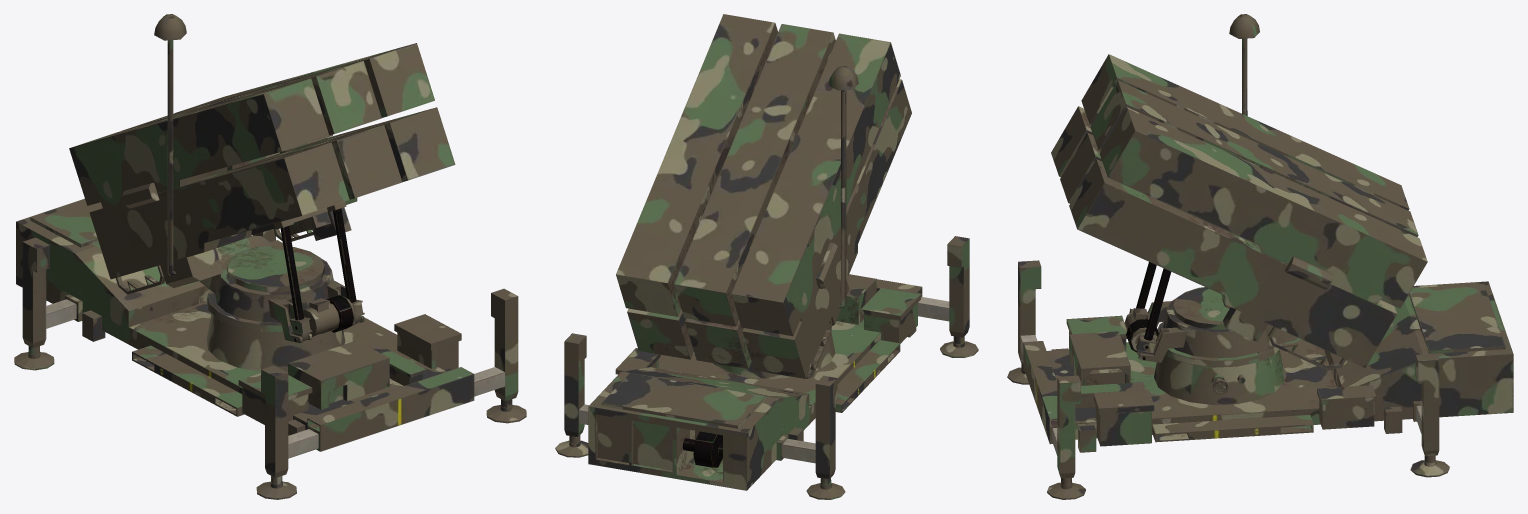
The model's file is nasams.glb.
3 views of the same model, side by side, from view 1: azimuth 30°, elevation 25°; view 2: azimuth 150°, elevation 25°; view 3: azimuth 270°, elevation 25° (orthographic). The views are drawn at different scales.
Visible parts, largest first — view 1: Object_2; view 2: Object_2; view 3: Object_2.
Part boxes in pixels (x1,y1,x2,y2): Object_2: (14, 14, 526, 499); Object_2: (555, 14, 978, 499); Object_2: (1007, 14, 1513, 499).
Size of the model in its own units: 12.82 by 14.2 by 17.79.
Materials: 1 (1 with a texture image).
